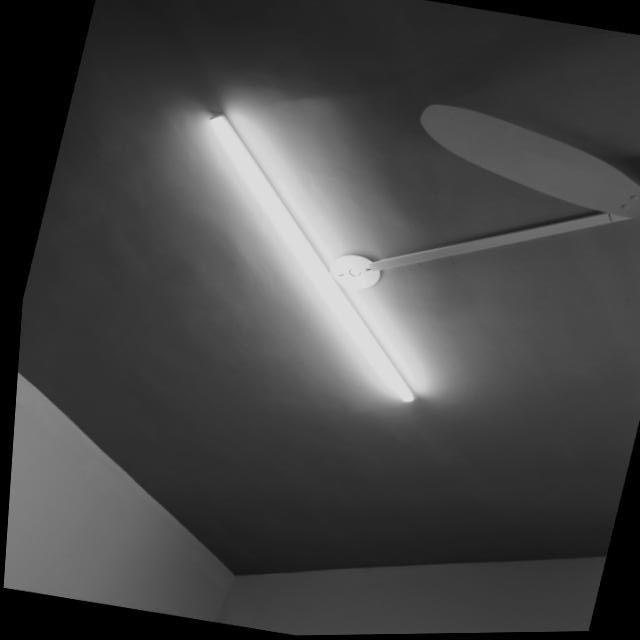fluorescent tube: (117, 91, 496, 423)
